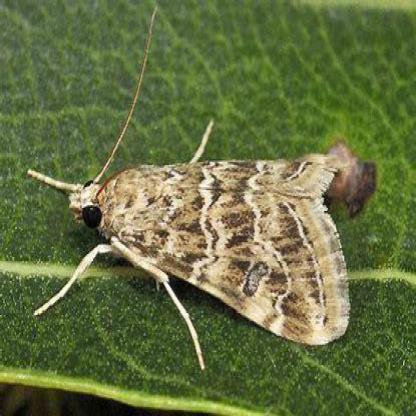Hellula undalis: (21, 5, 356, 375)
